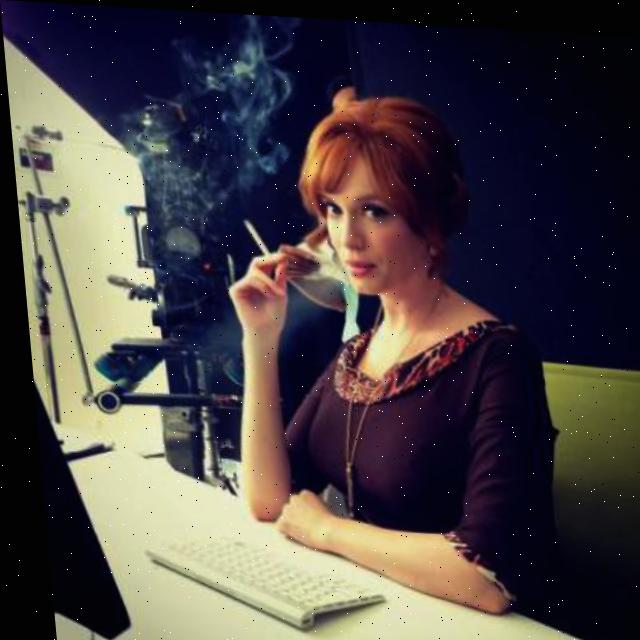cigarette: (238, 217, 267, 253)
